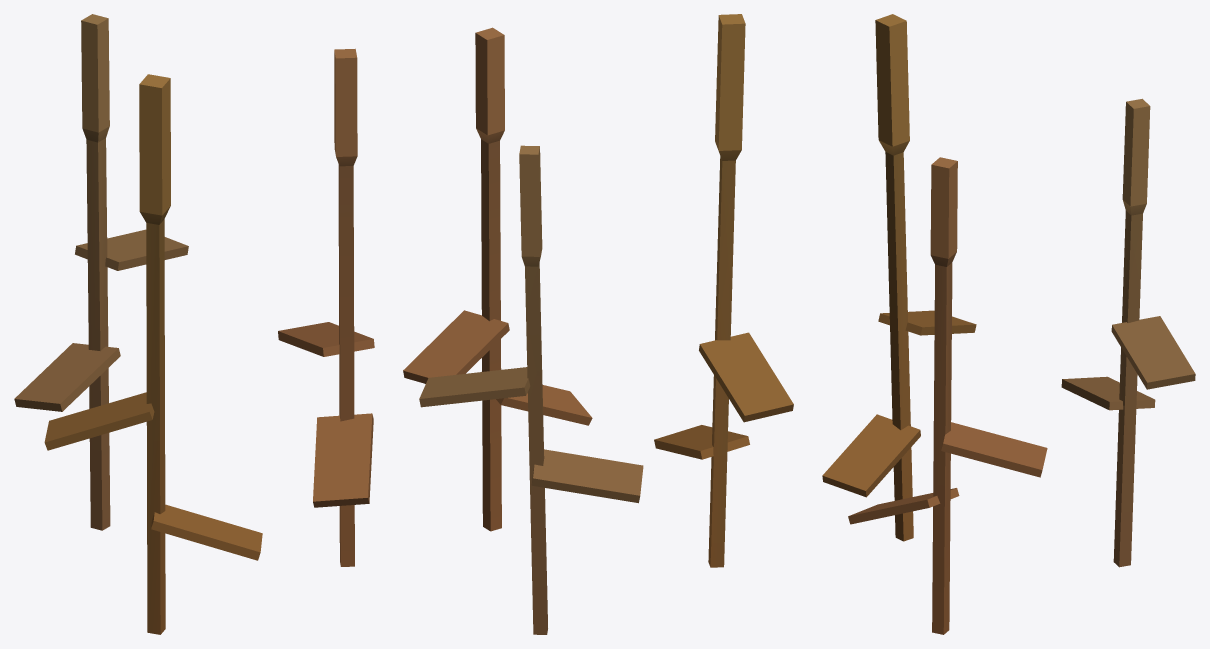
File: wheatstage3.glb
The picture shows the model from 3 angles, left to right: view 1: azimuth 30°, elevation 25°; view 2: azimuth 150°, elevation 25°; view 3: azimuth 270°, elevation 25°; orthographic projection. The views are drawn at different scales.
Visible parts, largest first — view 1: Cube.003; view 2: Cube.003; view 3: Cube.003.
Part boxes in pixels (bbox=[...]): Cube.003: bbox=[14, 14, 374, 634]; Cube.003: bbox=[403, 14, 793, 634]; Cube.003: bbox=[822, 14, 1195, 634].
Bounding box in the file's own units: 0.8504 × 1.32 × 0.8698.
